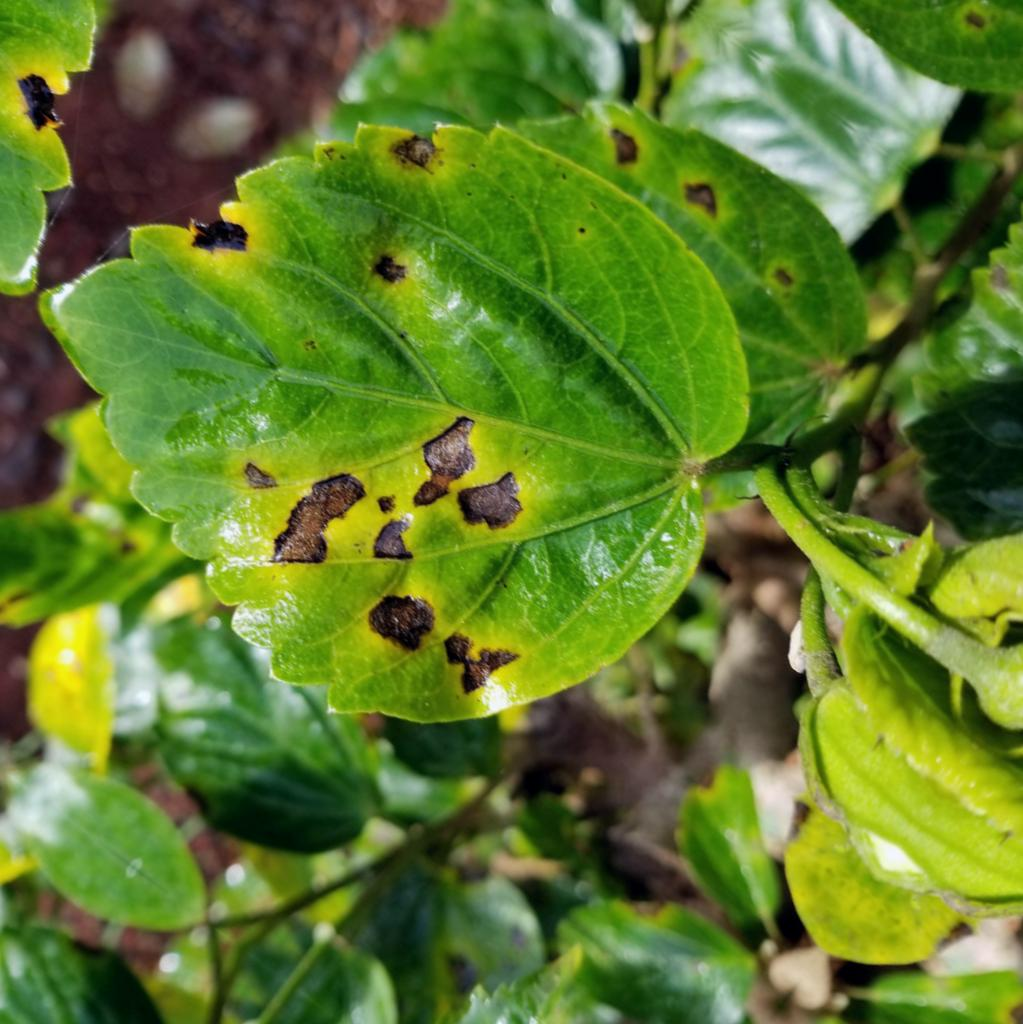Tomato leaf bacterial spot: (0, 0, 851, 855)
